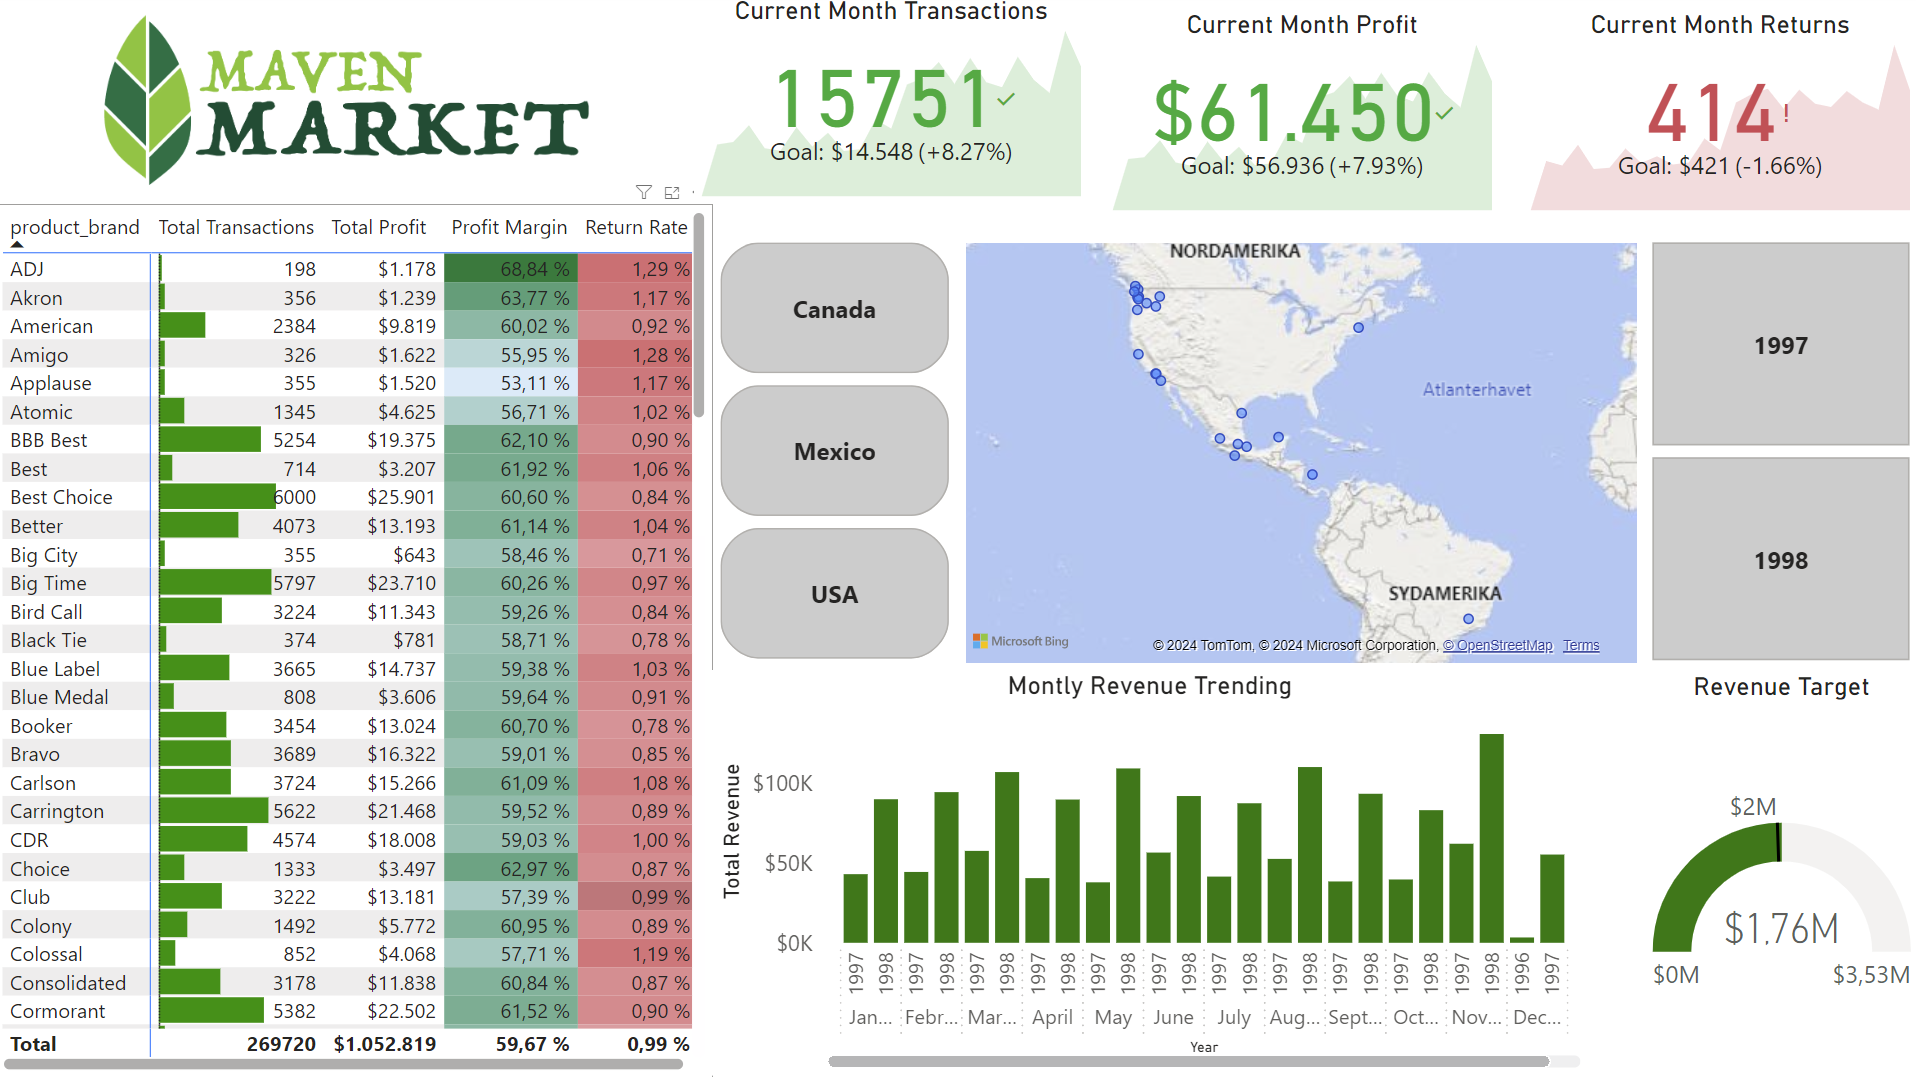

Layout of this report page (visuals, bound fields, positions):
{"tool":"powerbi","page":{"name":"Dashboard","canvas":[1280,720],"ordinal":1},"visuals":[{"type":"pivotTable","fields":{"Rows":["Products.product_brand"],"Values":["Measure Table (DAX).Total Transactions","Measure Table (DAX).Total Profit","Measure Table (DAX).Profit Margin","Measure Table (DAX).Return Rate"]},"box":[0,139.2,477.8,582.2],"z":0},{"type":"image","box":[0,0,465.3,139.1],"z":1000},{"type":"kpi","title":"Current Month Transactions ","fields":{"Indicator":["Measure Table (DAX).Total Transactions"],"TrendLine":["Calendar.Start of Month"],"Goal":["Measure Table (DAX).Last Month Transactions"]},"box":[465.2,0,262.6,139.2],"z":2000},{"type":"kpi","title":"Current Month Returns ","fields":{"Indicator":["Measure Table (DAX).Total Retruns"],"TrendLine":["Calendar.Start of Month"],"Goal":["Measure Table (DAX).Last Month Returns"]},"box":[1017.4,9.5,262.6,139.2],"z":3000},{"type":"kpi","title":"Current Month Profit","fields":{"Indicator":["Measure Table (DAX).Total Profit"],"TrendLine":["Calendar.Start of Month"],"Goal":["Measure Table (DAX).Last Month Profit"]},"box":[738.9,9.5,262.6,139.2],"z":4000},{"type":"map","fields":{"Category":["Stores.store_city","Stores.store_country","Stores.store_state"]},"box":[640.8,159.8,457.3,289.5],"z":5000},{"type":"advancedSlicerVisual","fields":{"Values":["Stores.store_country"]},"box":[477.8,159.8,163,289.5],"z":6000},{"type":"columnChart","title":"Montly Revenue Trending ","fields":{"Y":["Measure Table (DAX).Total Revenue"],"Category":["Calendar.Start of Week.Variation.Date Hierarchy.Month","Calendar.Year"]},"box":[477.3,449.3,583.1,269.6],"z":7000},{"type":"advancedSlicerVisual","fields":{"Values":["Calendar.date.Variation.Date Hierarchy.Year"]},"box":[1098,159.8,182,289.5],"z":8000},{"type":"gauge","title":"Revenue Target","fields":{"Y":["Measure Table (DAX).Total Revenue"],"TargetValue":["Measure Table (DAX).Revenue Target"]},"box":[1098,450,182,269],"z":8001}]}

Visuals, with their boxes in screenshot pixels (x1, y1, x2, y2), scaled from the page's 1280x720 canvas onto the 1916x1077 screenshot:
pivotTable - Products.product_brand x Measure Table (DAX).Total Transactions: Rect(0, 208, 715, 1076)
image: Rect(0, 0, 696, 208)
"Current Month Transactions " kpi: Rect(696, 0, 1089, 208)
"Current Month Returns " kpi: Rect(1523, 14, 1915, 222)
"Current Month Profit" kpi: Rect(1106, 14, 1499, 222)
map - Stores.store_city x Stores.store_country: Rect(959, 239, 1644, 672)
advancedSlicerVisual - Stores.store_country: Rect(715, 239, 959, 672)
"Montly Revenue Trending " columnChart: Rect(714, 672, 1587, 1075)
advancedSlicerVisual - Calendar.date.Variation.Date Hierarchy.Year: Rect(1644, 239, 1915, 672)
"Revenue Target" gauge: Rect(1644, 673, 1915, 1076)
